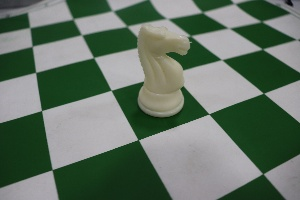white_horse: (131, 14, 192, 129)
